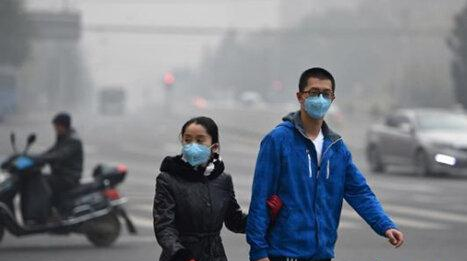car: (365, 108, 467, 178)
motorbike: (1, 131, 137, 246)
person: (245, 67, 404, 261), (152, 116, 282, 261), (32, 111, 85, 223)
